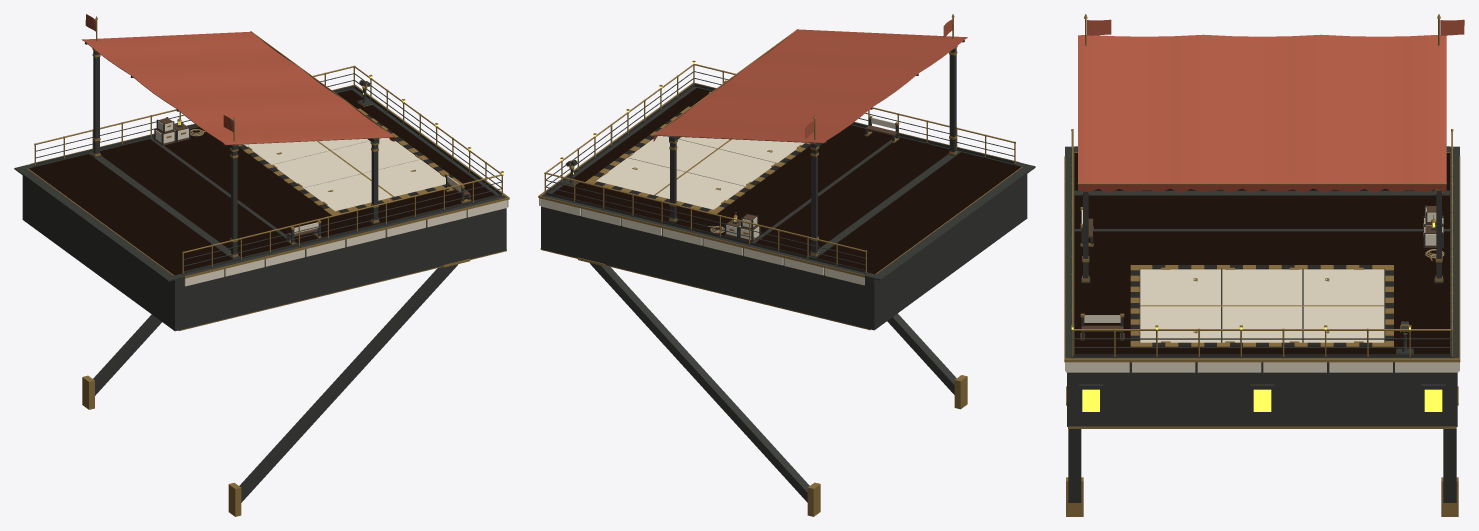
The model's file is ordo_landing.glb.
3 renders of one model, left to right at view 1: azimuth 30°, elevation 25°; view 2: azimuth 150°, elevation 25°; view 3: azimuth 270°, elevation 25°, orthographic. The views are drawn at different scales.
Parts seen in each view (by area): view 1: ordo_landing; view 2: ordo_landing; view 3: ordo_landing.
Part boxes in pixels (x1=…): ordo_landing: x1=14, y1=14, x2=509, y2=516; ordo_landing: x1=538, y1=14, x2=1035, y2=516; ordo_landing: x1=1064, y1=14, x2=1464, y2=516.
Bounding box in the file's own units: 23.1 × 25.31 × 18.23.
